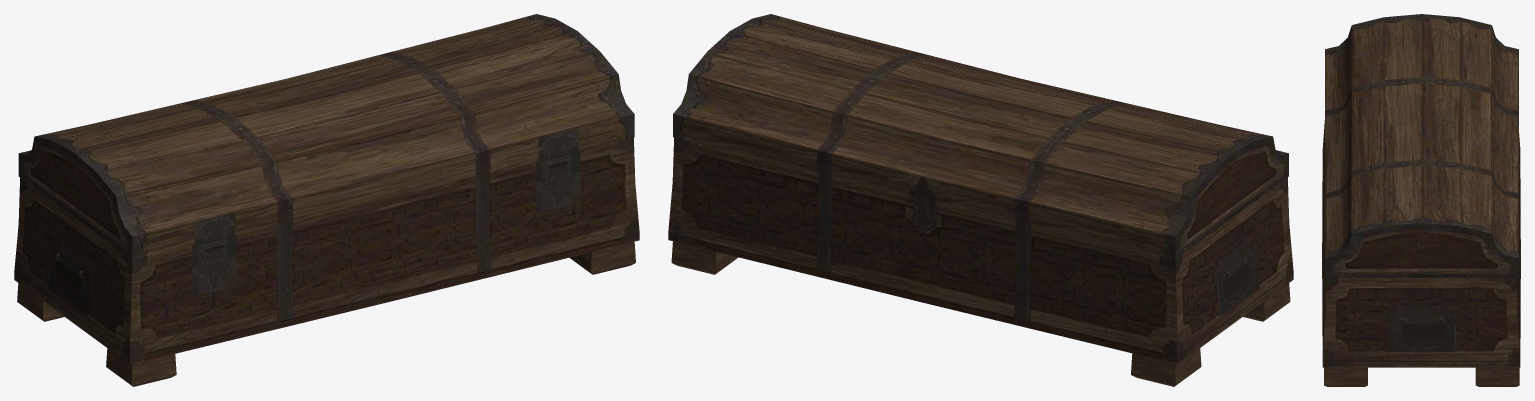
Rendered from eso_gu1_Chest2-transformed.glb.
The picture shows the model from 3 angles, left to right: view 1: azimuth 30°, elevation 25°; view 2: azimuth 150°, elevation 25°; view 3: azimuth 270°, elevation 25°; orthographic projection. The views are drawn at different scales.
Visible parts, largest first — view 1: default; view 2: default; view 3: default.
Part boxes in pixels (x1,y1,x2,y2): default: (14,14,639,386); default: (668,14,1293,386); default: (1322,14,1520,386).
Size of the model in its own units: 1.99 by 0.7116 by 0.777.
Materials: 1 (1 with a texture image).
